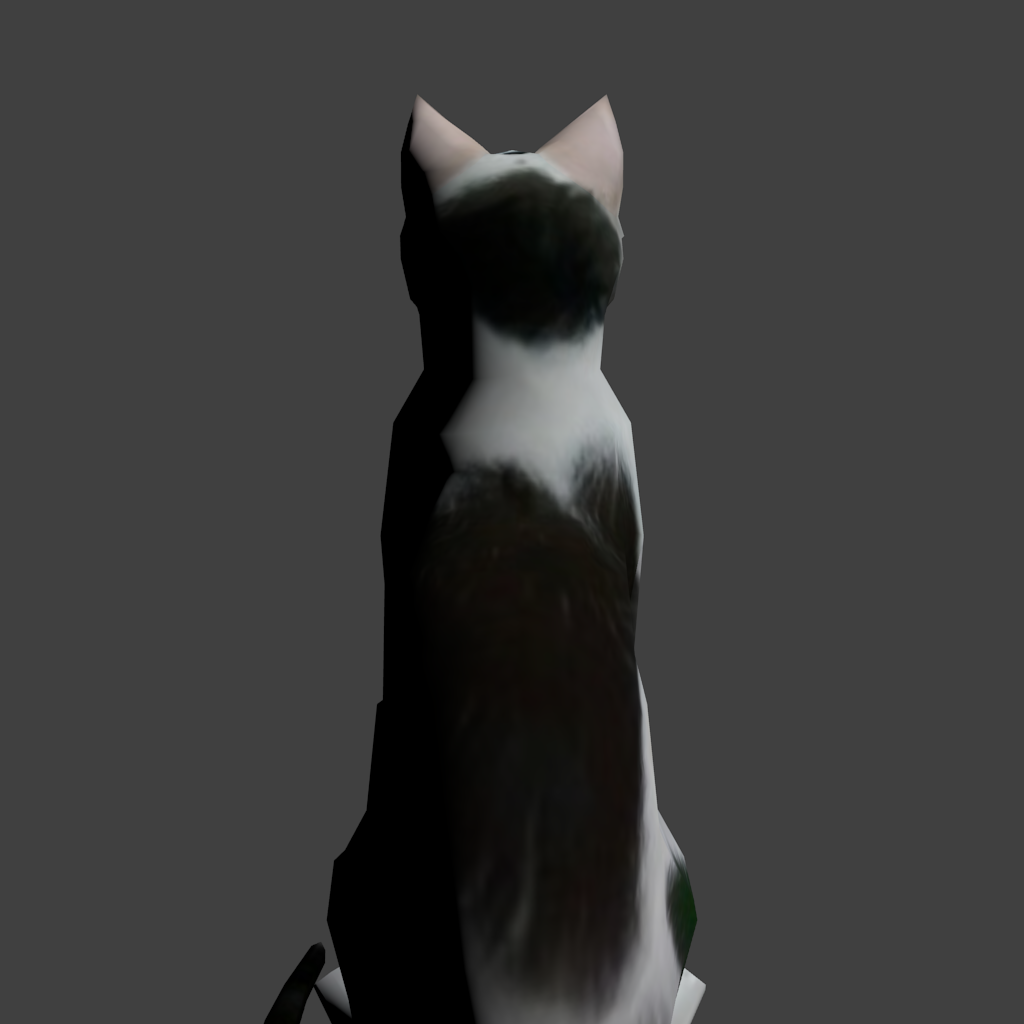Cat: (252, 94, 454, 930)
